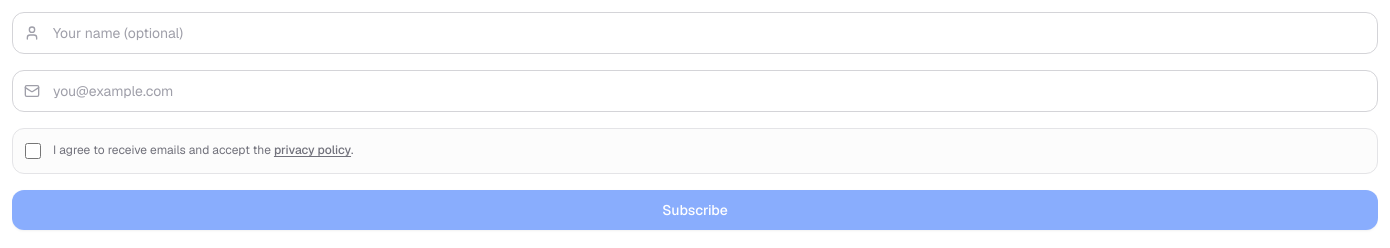
NewsletterSignupForm › form states › disables submit button while loading
The width and height of the screenshot is (1390, 248).
Type "John" into the field with placeholder "Your name (optional)".
click(695, 33); type("John")  # box [12,12,1378,54]
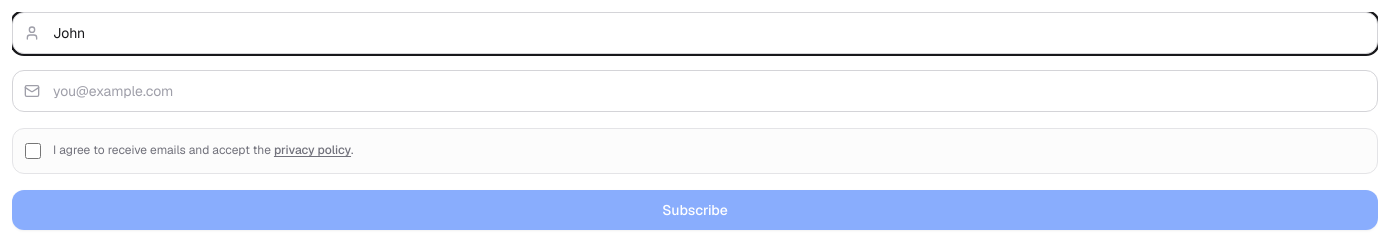
Type "john@example.com" into the field with placeholder "you@example.com".
click(695, 91); type("john@example.com")  # box [12,70,1378,112]
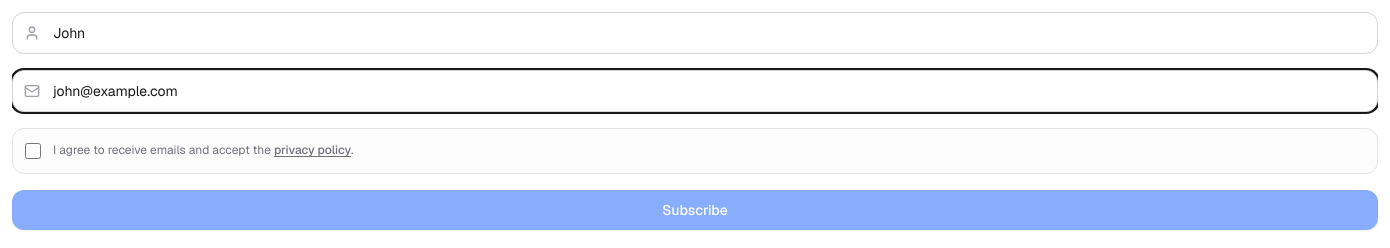
Click the checkbox.
click(33, 151)  # box [25,143,41,159]
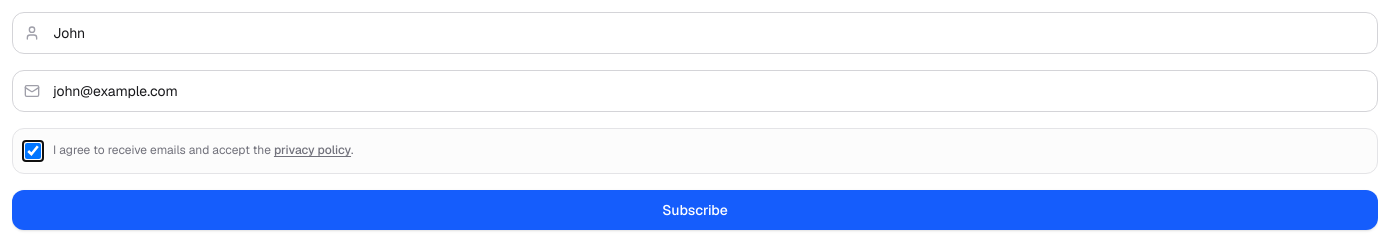
Click the button.
click(695, 210)  # box [12,190,1378,230]
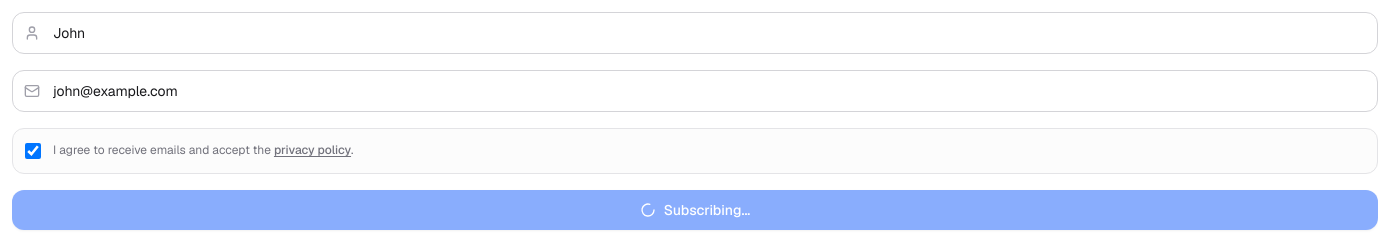
Check: the button is disabled, box [12,190,1378,230]
